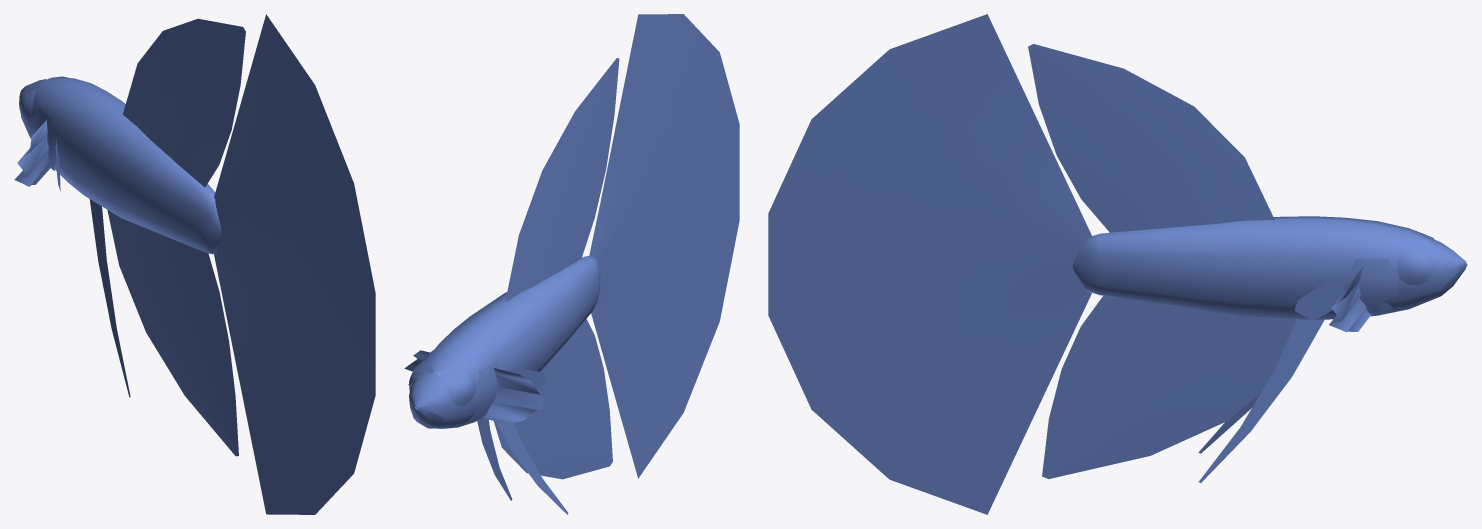
The model's file is betta_game.glb.
3 views of the same model, side by side, from view 1: azimuth 30°, elevation 25°; view 2: azimuth 150°, elevation 25°; view 3: azimuth 270°, elevation 25° (orthographic). The views are drawn at different scales.
Visible parts, largest first — view 1: betta_game; view 2: betta_game; view 3: betta_game.
Part boxes in pixels (x1,y1,x2,y2): betta_game: (14, 14, 375, 514); betta_game: (404, 14, 739, 514); betta_game: (768, 14, 1467, 514).
Bounding box in the file's own units: 0.0158 × 0.0506 × 0.064.
